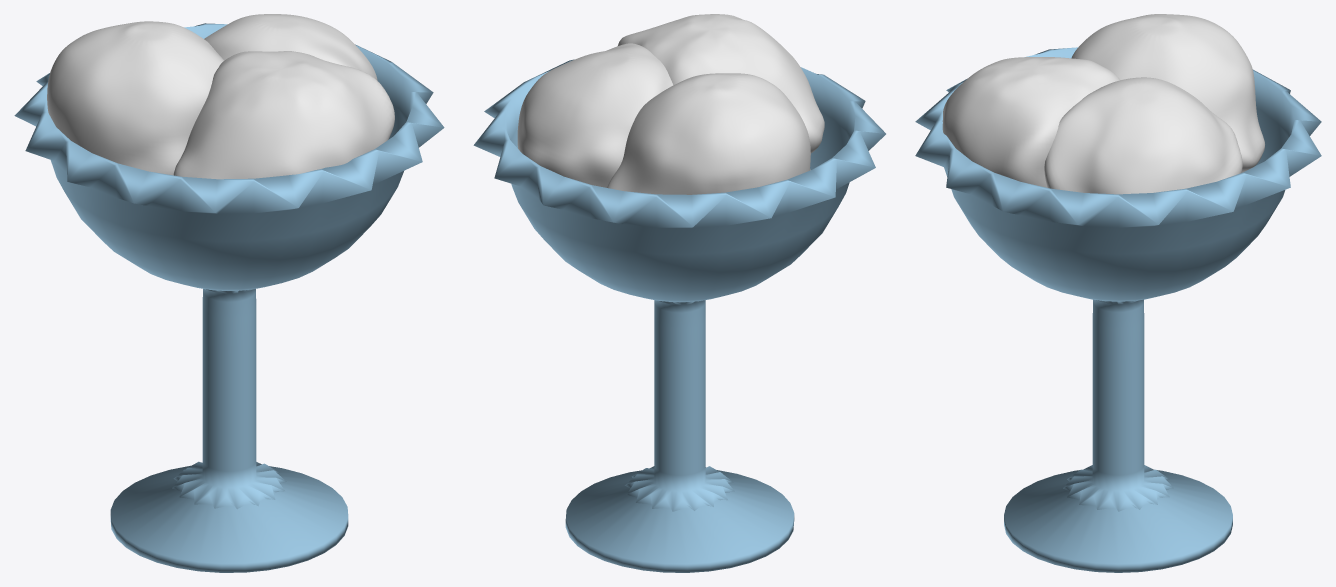
File: Icecream.fbx
3 views of the same model, side by side, from view 1: azimuth 30°, elevation 25°; view 2: azimuth 150°, elevation 25°; view 3: azimuth 270°, elevation 25° (orthographic). The views are drawn at different scales.
Parts seen in each view (by area): view 1: Sphere.003, Sphere.002, Sphere, Sphere.001; view 2: Sphere.003, Sphere, Sphere.001, Sphere.002; view 3: Sphere.003, Sphere.001, Sphere.002, Sphere.
Part boxes in pixels (x1=…): Sphere.003: x1=14, y1=23, x2=444, y2=572; Sphere.002: x1=173, y1=51, x2=394, y2=179; Sphere: x1=47, y1=21, x2=224, y2=175; Sphere.001: x1=204, y1=14, x2=377, y2=80; Sphere.003: x1=473, y1=59, x2=885, y2=572; Sphere: x1=607, y1=73, x2=810, y2=194; Sphere.001: x1=517, y1=43, x2=673, y2=187; Sphere.002: x1=618, y1=14, x2=824, y2=153; Sphere.003: x1=915, y1=47, x2=1321, y2=572; Sphere.001: x1=1044, y1=77, x2=1242, y2=194; Sphere.002: x1=942, y1=57, x2=1120, y2=187; Sphere: x1=1071, y1=14, x2=1264, y2=172.
Size of the model in its own units: 78.58 by 101 by 78.58.
